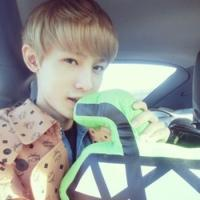face: (40, 29, 110, 120)
